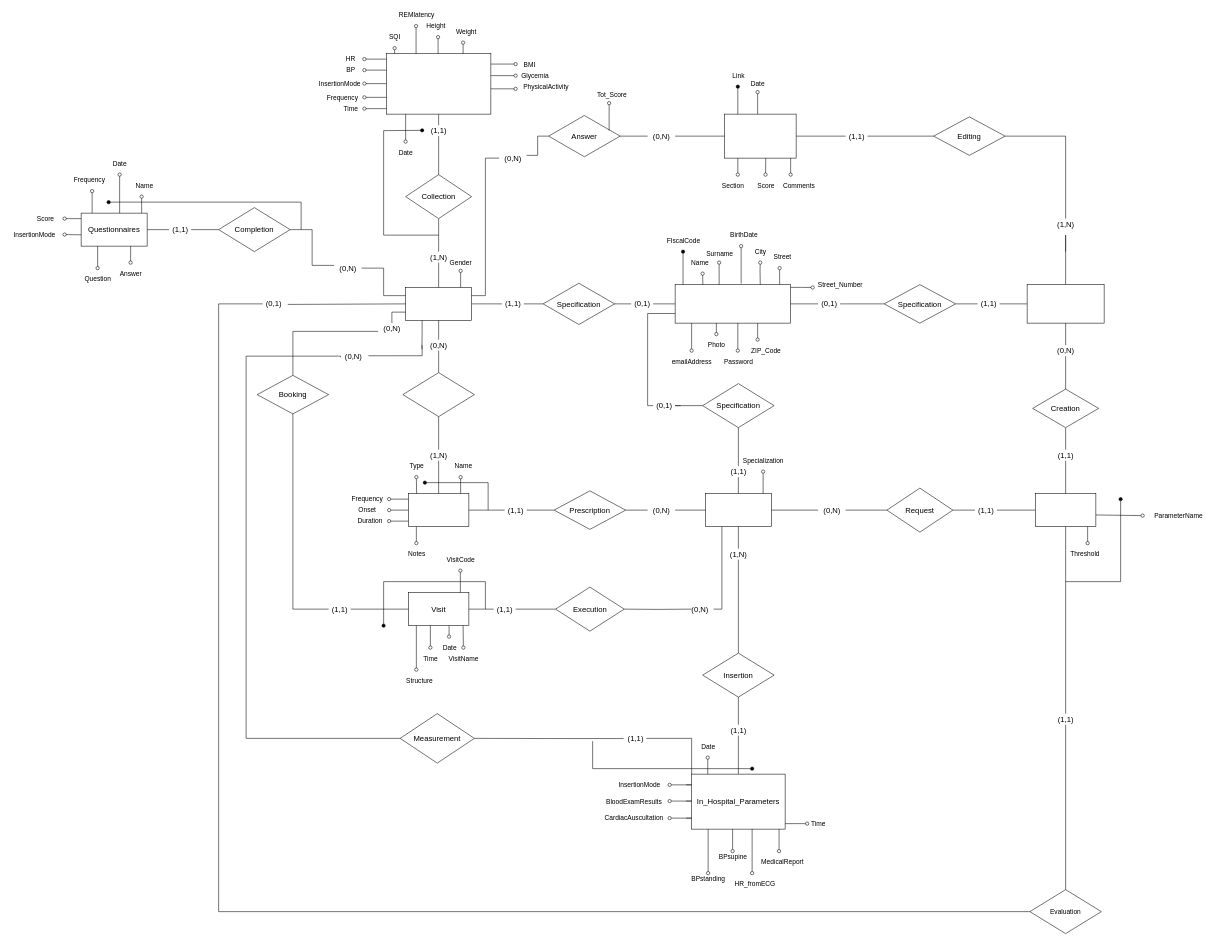
The diagram is 1215 pixels wide and 943 high, and some of its shapes have lost their labels. Here are the shapes that lost their labels. From the top down, the centre of each, then its label:
At (x=438, y=83): "At_Home_Parameters".
At (x=760, y=136): "Customer Satisfaction Survey".
At (x=438, y=303): "Patient".
At (x=733, y=303): "User".
At (x=1065, y=303): "Technical Administrator".
At (x=438, y=394): "Compliance".
At (x=438, y=510): "Therapy".
At (x=738, y=510): "Specialized Practitioner".
At (x=1065, y=510): "REM".
